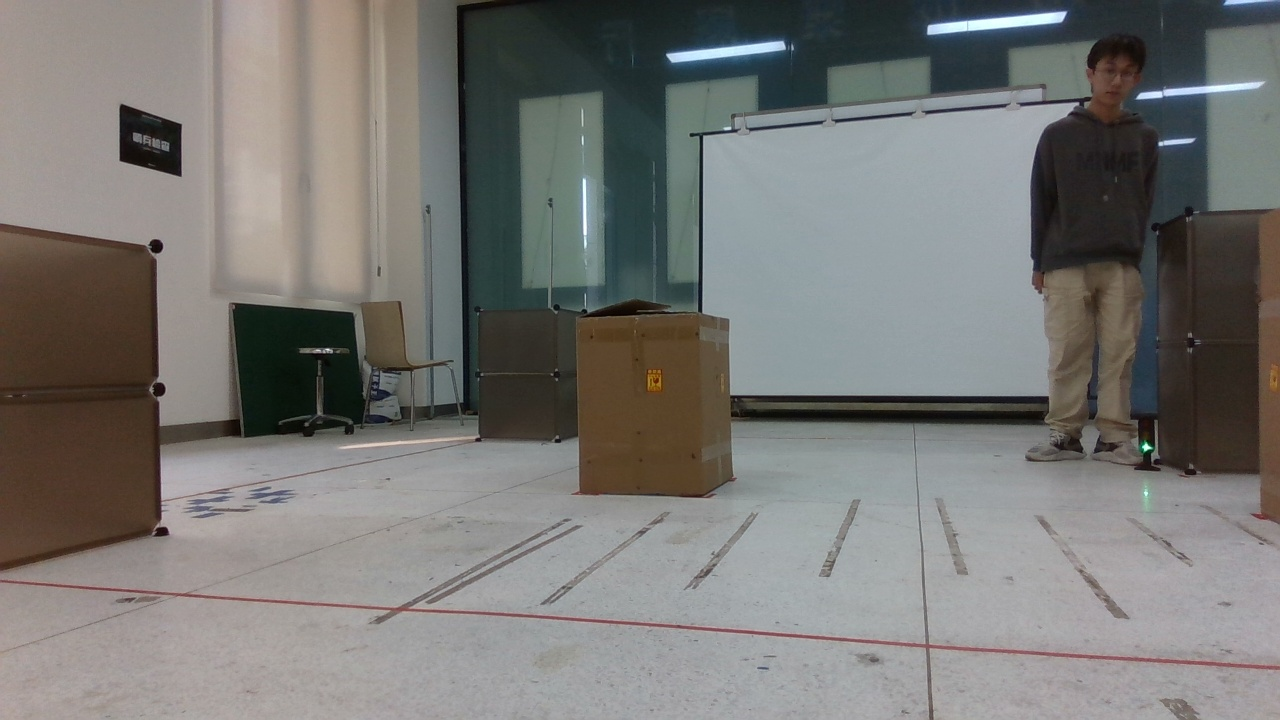green_light: (1131, 406, 1164, 479)
